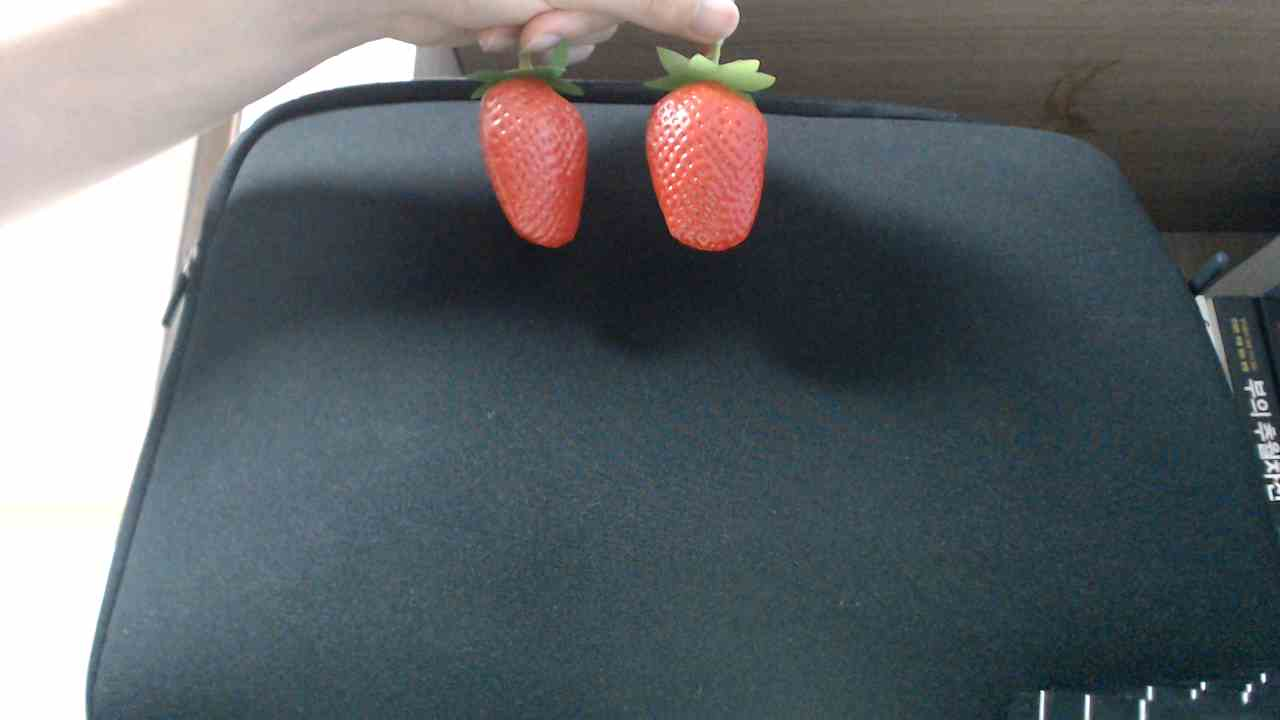strawberry: (627, 67, 772, 256), (460, 67, 603, 251)
